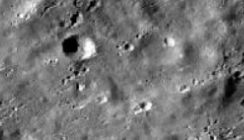crater: (31, 24, 122, 72), (110, 32, 148, 60)
